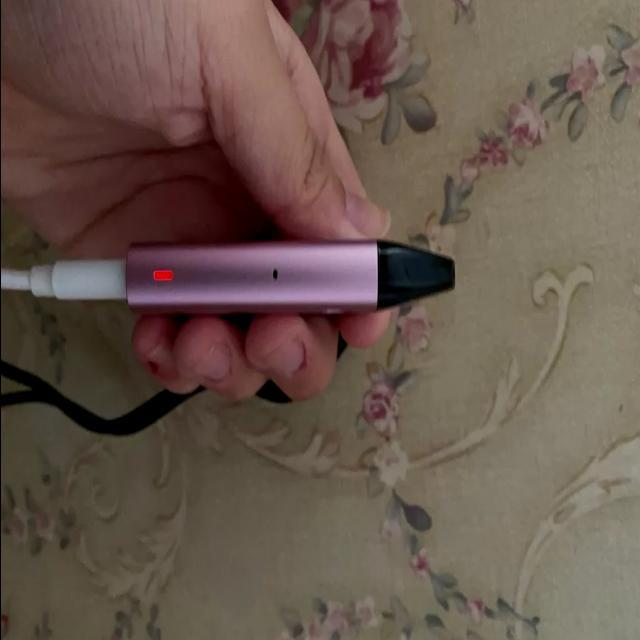Hazard: (126, 238, 458, 319)
